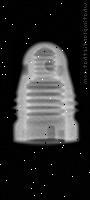Camlog: (12, 39, 80, 145)
